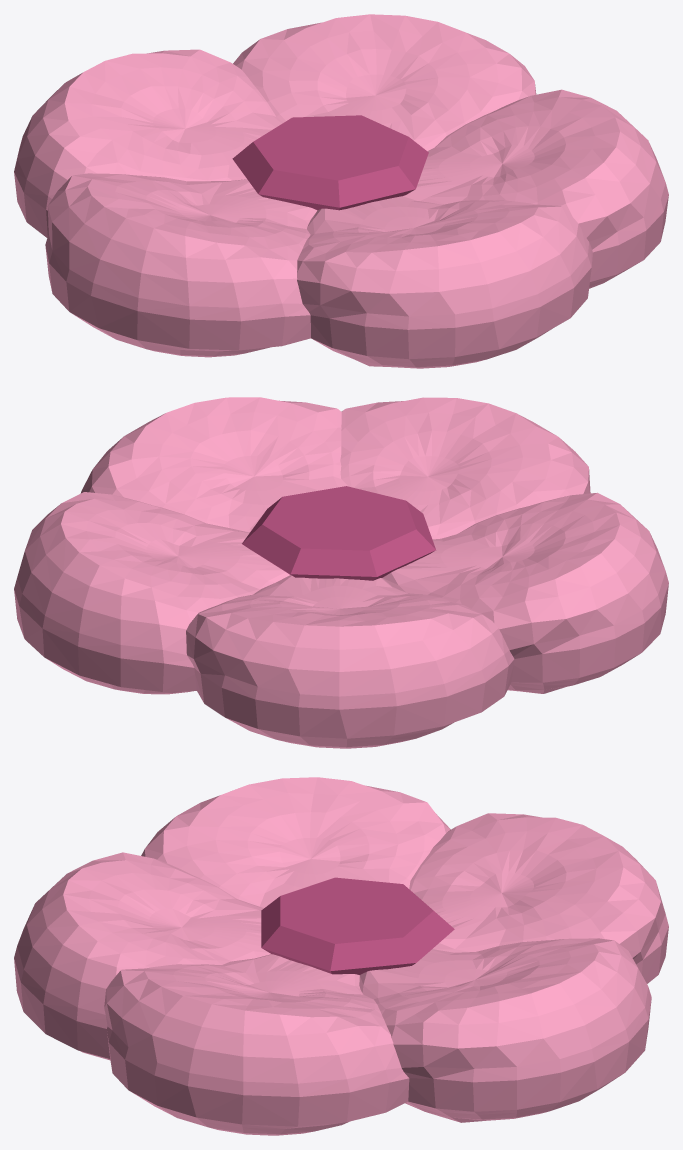
Rendered from Flor1.obj.
The picture shows the model from 3 angles, top to bottom: view 1: azimuth 30°, elevation 25°; view 2: azimuth 150°, elevation 25°; view 3: azimuth 270°, elevation 25°; orthographic projection.
Visible parts, largest first — view 1: Sphere.016, Cone.016; view 2: Sphere.016, Cone.016; view 3: Sphere.016, Cone.016.
Boxes of the visible parts, x1=… form: Sphere.016: x1=14, y1=14, x2=668, y2=368; Cone.016: x1=232, y1=115, x2=428, y2=210; Sphere.016: x1=14, y1=397, x2=668, y2=748; Cone.016: x1=242, y1=486, x2=435, y2=580; Sphere.016: x1=14, y1=777, x2=668, y2=1135; Cone.016: x1=261, y1=877, x2=454, y2=974.
Bounding box in the file's own units: 1.61 × 0.3916 × 1.61.
